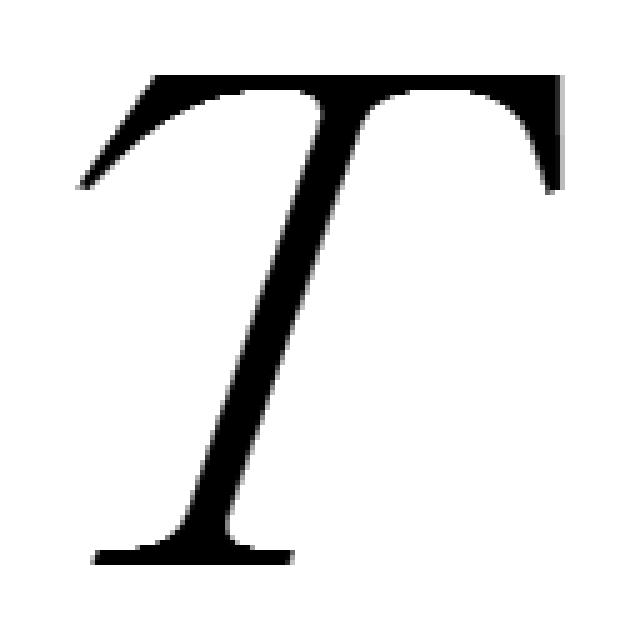T: (65, 60, 570, 570)
